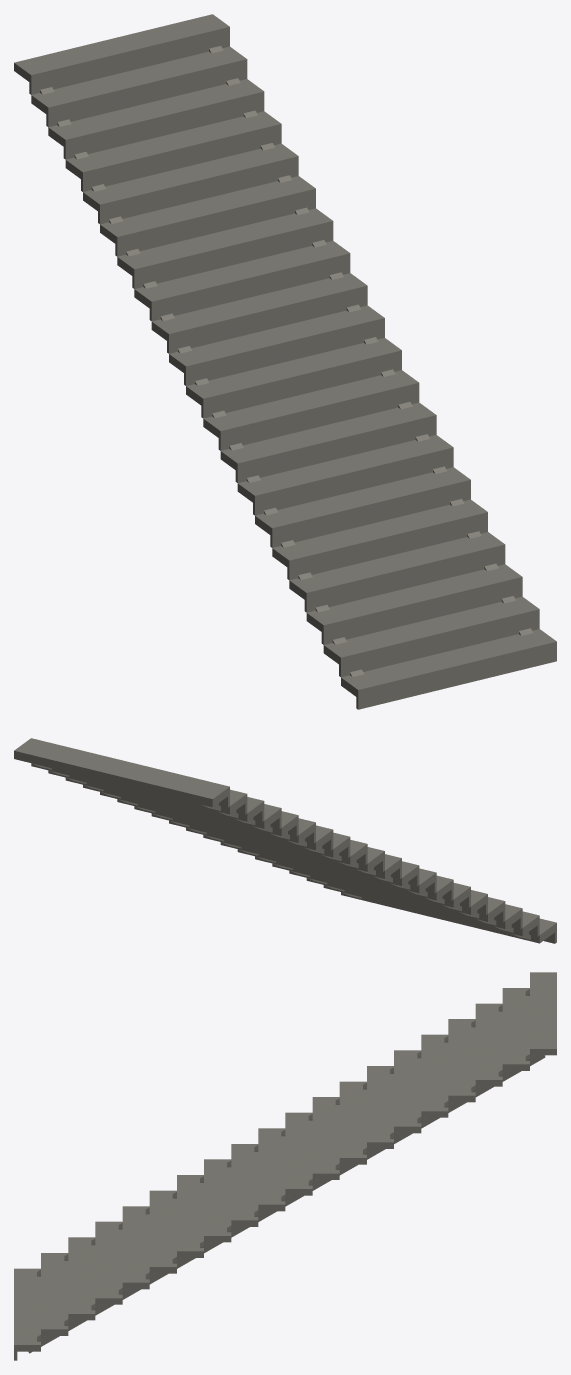
Rendered from OA_Stair_20_Steps.fbx.
3 renders of one model, top to bottom at view 1: azimuth 30°, elevation 25°; view 2: azimuth 150°, elevation 25°; view 3: azimuth 270°, elevation 25°, orthographic. The views are drawn at different scales.
Parts seen in each view (by area): view 1: OA_Stair_20_Steps; view 2: OA_Stair_20_Steps; view 3: OA_Stair_20_Steps.
Boxes of the visible parts, x1,y1,x2,y2 form: OA_Stair_20_Steps: [14, 14, 556, 709]; OA_Stair_20_Steps: [14, 738, 556, 943]; OA_Stair_20_Steps: [14, 972, 556, 1360].
Bounding box in the file's own units: 2 × 3.8 × 6.
Materials: 1 (1 with a texture image).
